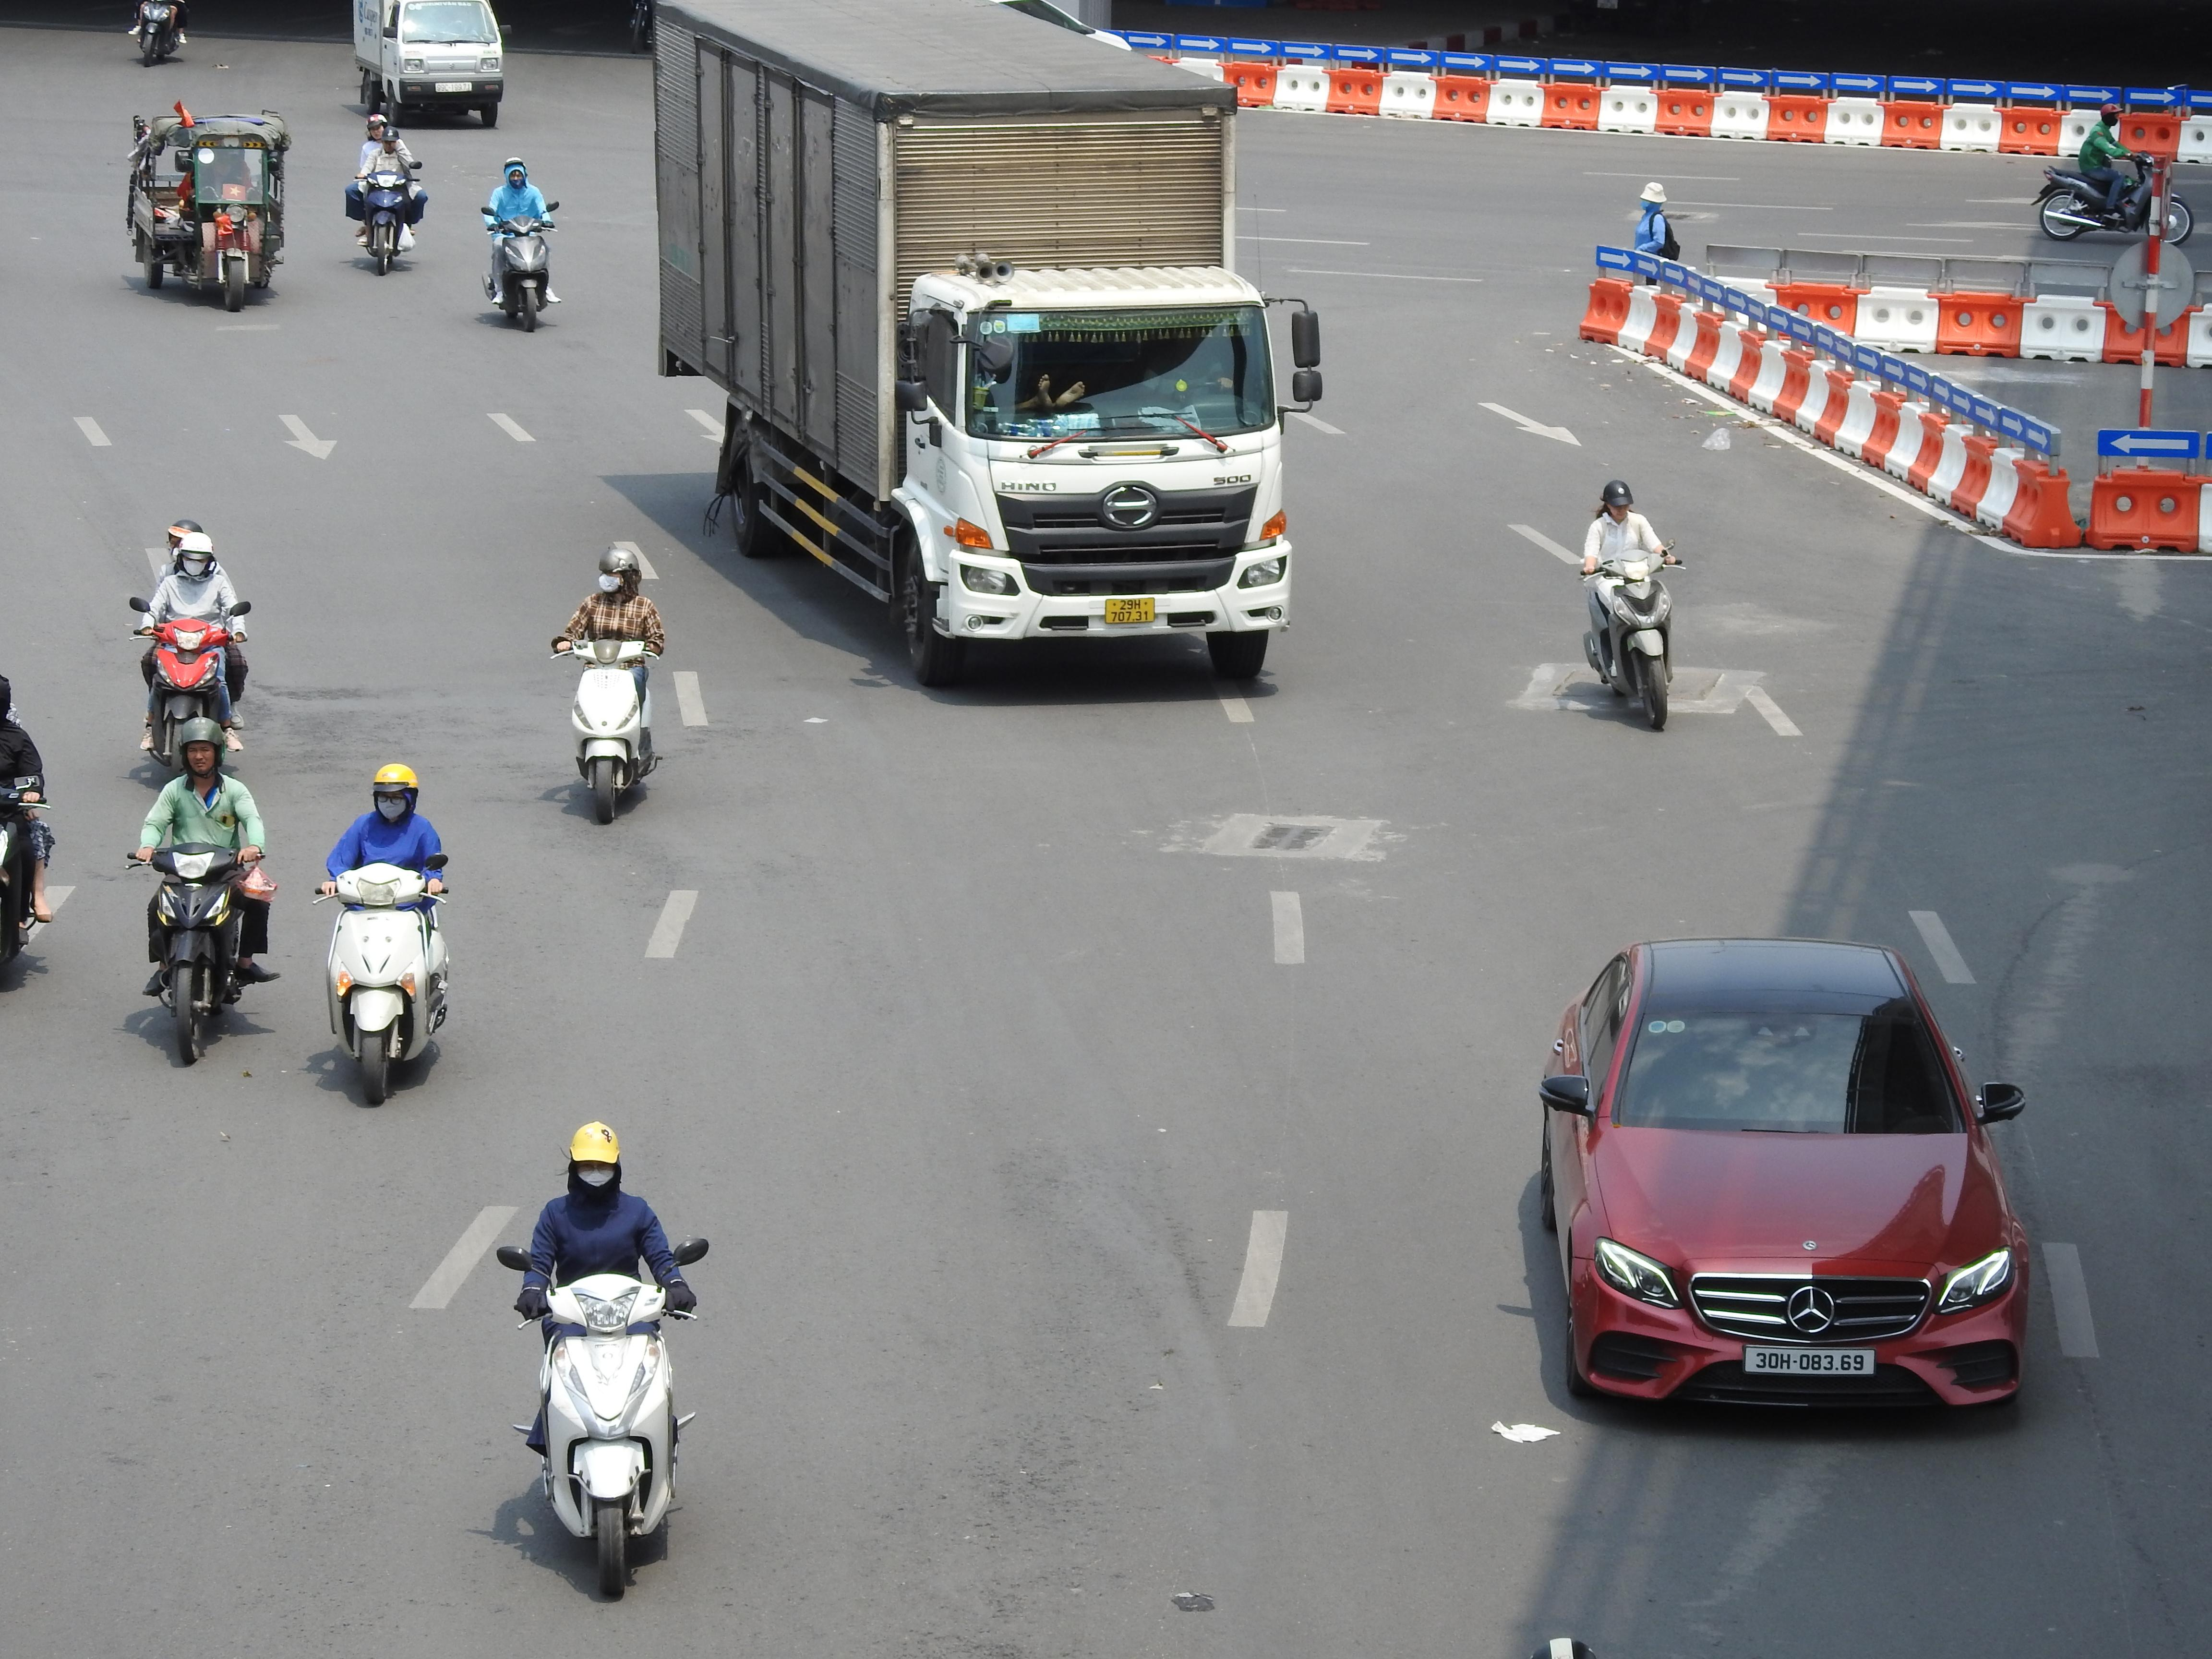BSD: (1743, 1345, 1874, 1375)
BSV: (1104, 596, 1157, 626), (434, 82, 472, 92)
car: (1524, 936, 2034, 1417), (350, 0, 507, 129)
motorbike: (500, 1121, 704, 1601), (132, 718, 273, 1066), (317, 762, 451, 1108), (125, 103, 289, 308), (131, 519, 251, 784), (556, 544, 665, 826), (1580, 477, 1683, 735), (2034, 105, 2195, 244), (0, 666, 54, 999), (481, 157, 559, 331), (347, 112, 427, 275), (129, 0, 190, 66)
truck: (650, 0, 1324, 690)
